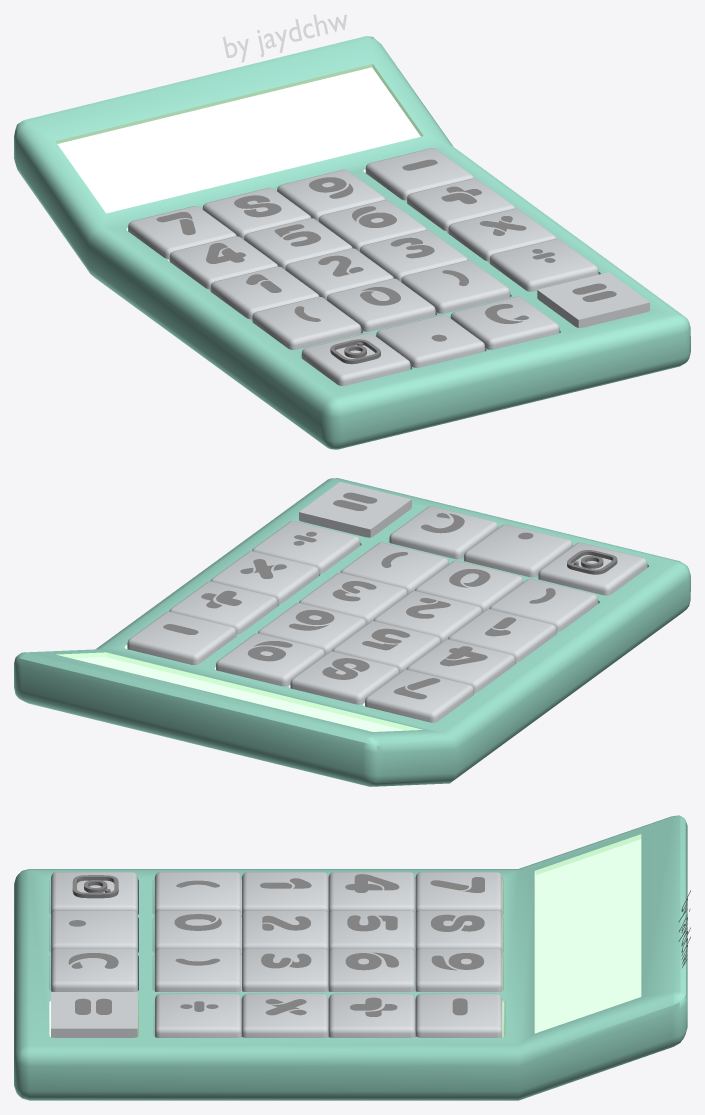
File: calculator.glb
The picture shows the model from 3 angles, top to bottom: view 1: azimuth 30°, elevation 25°; view 2: azimuth 150°, elevation 25°; view 3: azimuth 270°, elevation 25°; orthographic projection. The views are drawn at different scales.
Parts seen in each view (by area): view 1: Cube, screen, buttonequals, button(, buttondecimal, buttondivide, button), buttonclear, button0, buttonminus, buttoninsta, button1 (+13 smaller); view 2: Cube, buttonequals, buttonminus, buttondecimal, button7, buttonclear, screen, button9, button(, buttondivide, button8, buttoninsta (+19 smaller); view 3: Cube, screen, buttondivide, buttonminus, button), buttonmultiply, buttonequals, buttonplus, buttonclear, button3, buttondecimal, button9 (+24 smaller).
Boxes of the visible parts, x1=… form: Cube: x1=14, y1=36, x2=690, y2=449; screen: x1=57, y1=67, x2=420, y2=213; buttonequals: x1=537, y1=272, x2=649, y2=327; button(: x1=252, y1=296, x2=361, y2=349; buttondecimal: x1=376, y1=314, x2=484, y2=367; buttondivide: x1=489, y1=238, x2=598, y2=291; button): x1=401, y1=260, x2=510, y2=313; buttonclear: x1=450, y1=296, x2=559, y2=349; button0: x1=326, y1=278, x2=435, y2=331; buttonminus: x1=365, y1=148, x2=473, y2=200; buttoninsta: x1=301, y1=333, x2=410, y2=385; button1: x1=210, y1=266, x2=319, y2=319; Cube: x1=14, y1=478, x2=690, y2=786; buttonequals: x1=299, y1=482, x2=411, y2=537; buttonminus: x1=127, y1=611, x2=236, y2=665; buttondecimal: x1=464, y1=524, x2=572, y2=577; button7: x1=365, y1=669, x2=473, y2=722; buttonclear: x1=389, y1=506, x2=498, y2=559; screen: x1=73, y1=657, x2=405, y2=731; button9: x1=216, y1=633, x2=324, y2=686; button(: x1=489, y1=578, x2=597, y2=631; buttondivide: x1=252, y1=521, x2=360, y2=574; button8: x1=290, y1=651, x2=399, y2=704; buttoninsta: x1=538, y1=542, x2=647, y2=595; Cube: x1=14, y1=815, x2=687, y2=1100; screen: x1=536, y1=839, x2=641, y2=1032; buttondivide: x1=155, y1=993, x2=241, y2=1037; buttonminus: x1=415, y1=993, x2=502, y2=1037; button): x1=154, y1=948, x2=241, y2=991; buttonmultiply: x1=241, y1=993, x2=328, y2=1037; buttonequals: x1=51, y1=992, x2=137, y2=1037; buttonplus: x1=328, y1=993, x2=415, y2=1037; buttonclear: x1=51, y1=948, x2=137, y2=991; button3: x1=242, y1=948, x2=328, y2=991; buttondecimal: x1=51, y1=910, x2=137, y2=952; button9: x1=415, y1=948, x2=502, y2=991.
Size of the model in its own units: 2 by 0.6861 by 3.04.
